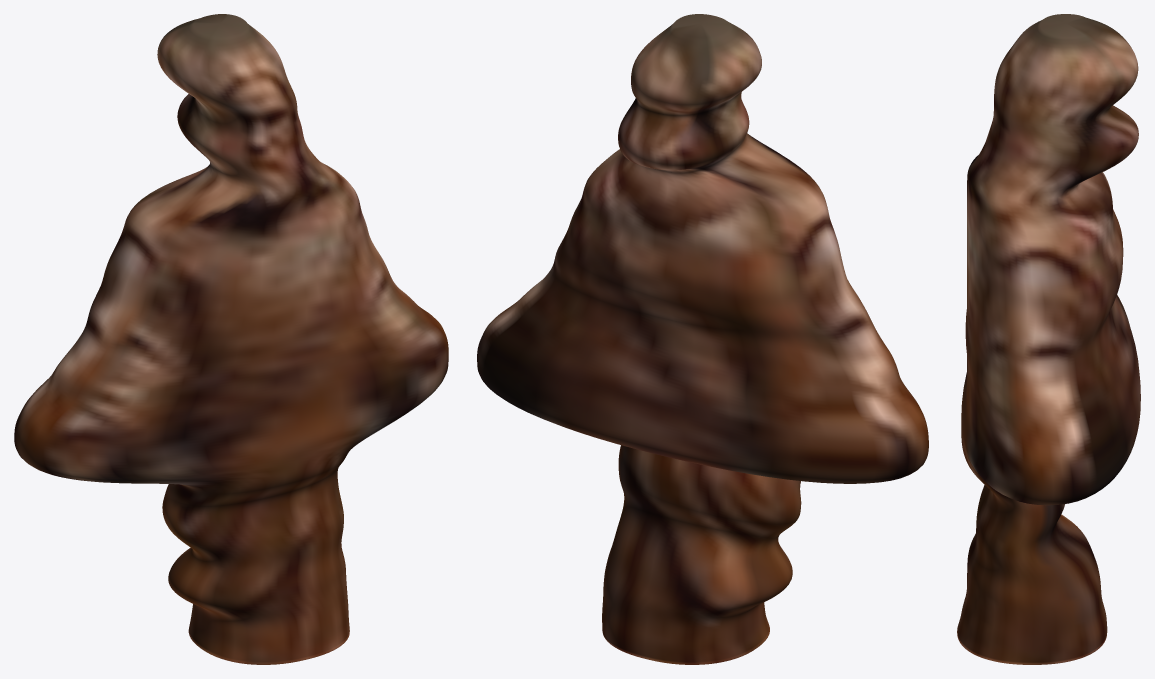
The picture shows the model from 3 angles, left to right: view 1: azimuth 30°, elevation 25°; view 2: azimuth 150°, elevation 25°; view 3: azimuth 270°, elevation 25°; orthographic projection. The views are drawn at different scales.
Visible parts, largest first — view 1: hull-W2; view 2: hull-W2; view 3: hull-W2.
Boxes of the visible parts, left/top/right/bottom form: hull-W2: left=14, top=14, right=448, bottom=664; hull-W2: left=477, top=14, right=928, bottom=664; hull-W2: left=957, top=14, right=1140, bottom=664.
Size of the model in its own units: 1.9 by 2.6 by 0.7289.
